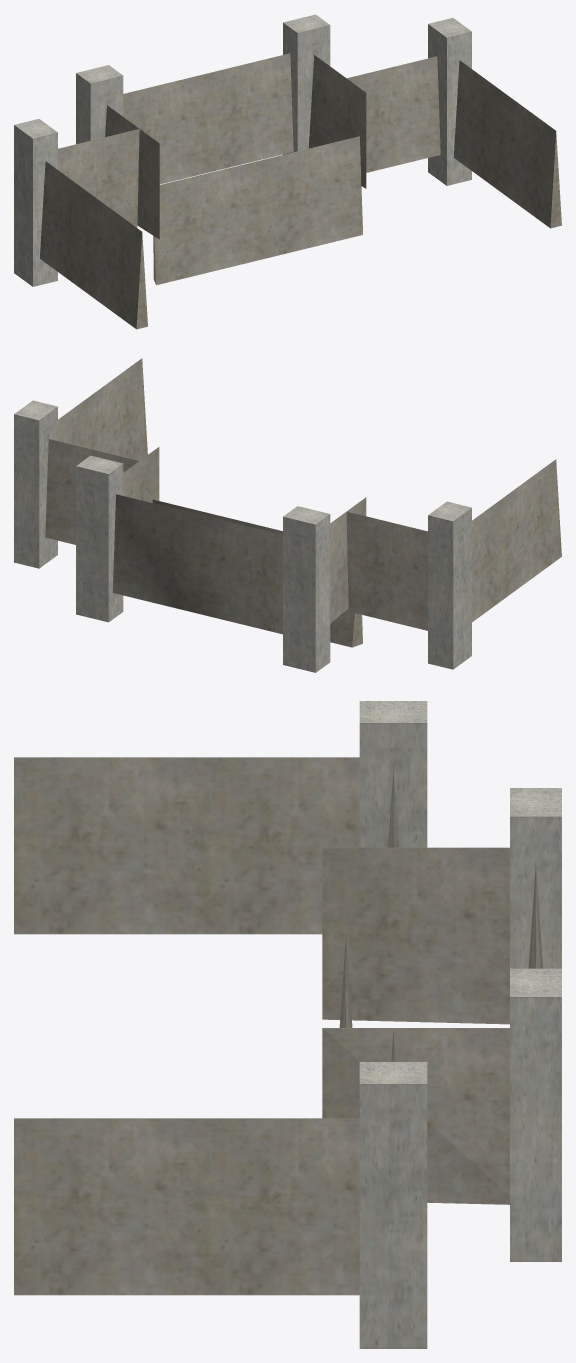
Rendered from poi_all_corral_half_32x32_s03_l1.fbx.
3 renders of one model, top to bottom at view 1: azimuth 30°, elevation 25°; view 2: azimuth 150°, elevation 25°; view 3: azimuth 270°, elevation 25°, orthographic. The views are drawn at different scales.
Parts seen in each view (by area): view 1: mesh_node; view 2: mesh_node; view 3: mesh_node.
Part boxes in pixels (left/top/right/bottom): mesh_node: left=14, top=14, right=561, bottom=329; mesh_node: left=14, top=358, right=561, bottom=672; mesh_node: left=14, top=701, right=561, bottom=1348.
Size of the model in its own units: 19.1 by 7.05 by 11.55.
